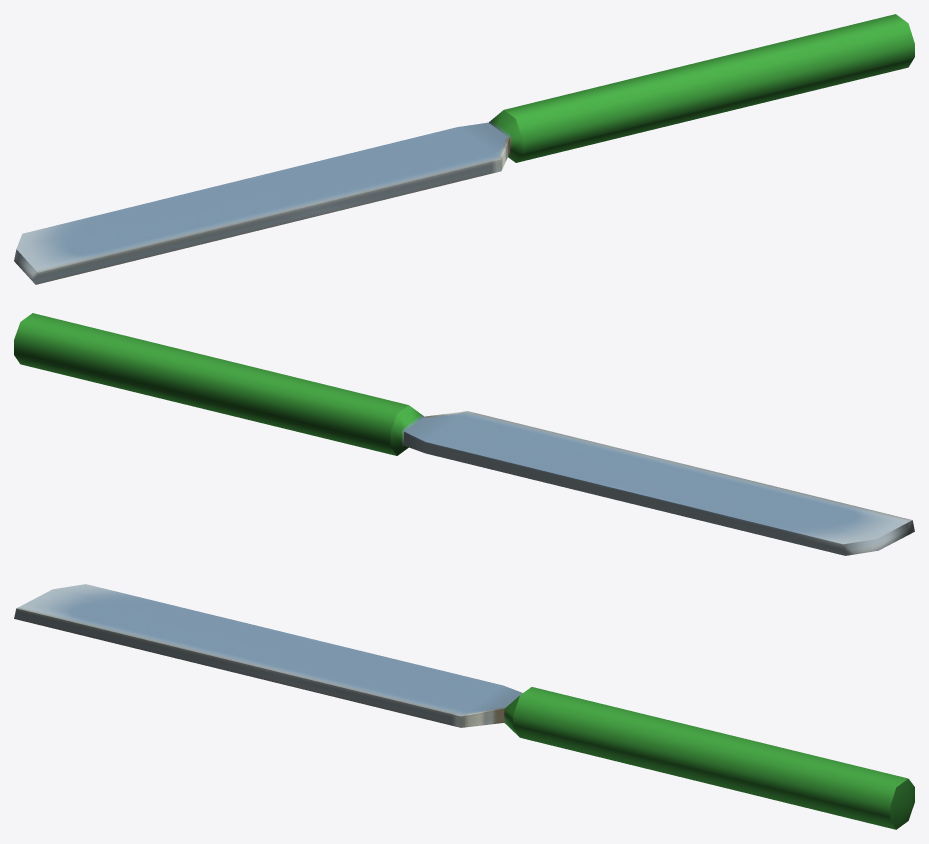
File: Cake_Knife_01.fbx
3 renders of one model, top to bottom at view 1: azimuth 30°, elevation 25°; view 2: azimuth 150°, elevation 25°; view 3: azimuth 330°, elevation 25°, orthographic. The views are drawn at different scales.
Visible parts, largest first — view 1: Cake_Knife_01; view 2: Cake_Knife_01; view 3: Cake_Knife_01.
Boxes of the visible parts, bbox=[...] form: Cake_Knife_01: bbox=[14, 14, 914, 284]; Cake_Knife_01: bbox=[14, 313, 914, 555]; Cake_Knife_01: bbox=[14, 584, 914, 829].
Size of the model in its own units: 120 by 5.61 by 10.13.
